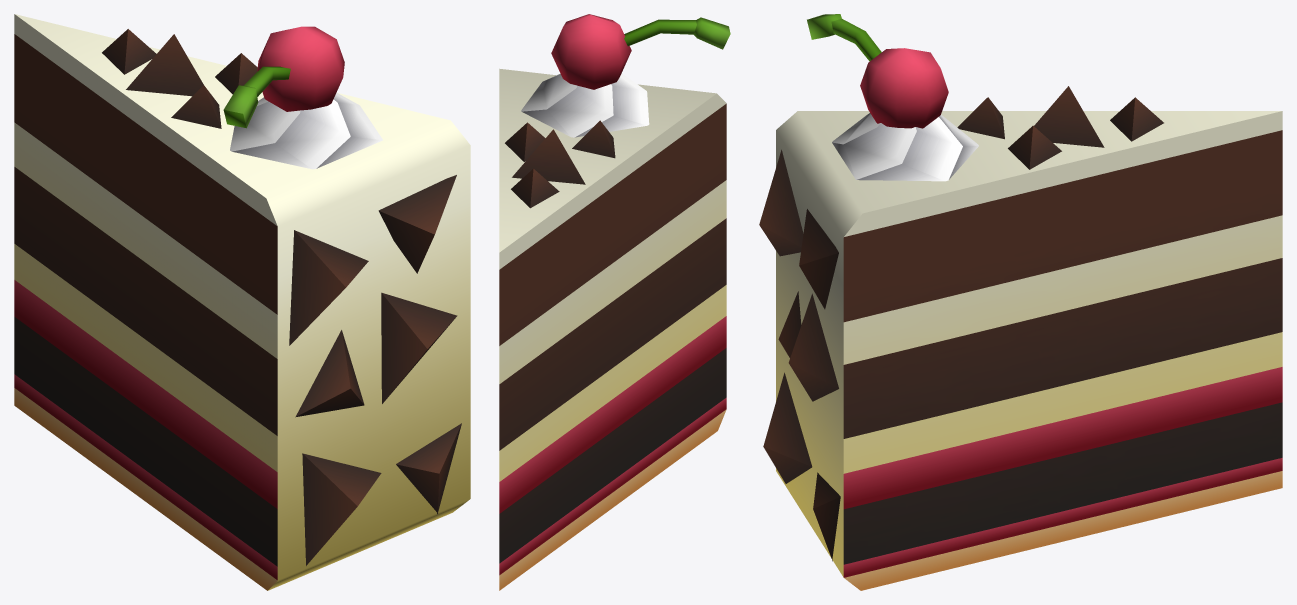
Rendered from m_BlackForestCake01_Slice.fbx.
The picture shows the model from 3 angles, left to right: view 1: azimuth 30°, elevation 25°; view 2: azimuth 150°, elevation 25°; view 3: azimuth 270°, elevation 25°; orthographic projection. The views are drawn at different scales.
Parts seen in each view (by area): view 1: m_BlackForestCake01_Slice; view 2: m_BlackForestCake01_Slice; view 3: m_BlackForestCake01_Slice.
Boxes of the visible parts, x1,y1,x2,y2 form: m_BlackForestCake01_Slice: (14, 14, 470, 590); m_BlackForestCake01_Slice: (499, 14, 730, 590); m_BlackForestCake01_Slice: (759, 14, 1282, 590).
Size of the model in its own units: 7.9 by 14.69 by 14.46.
